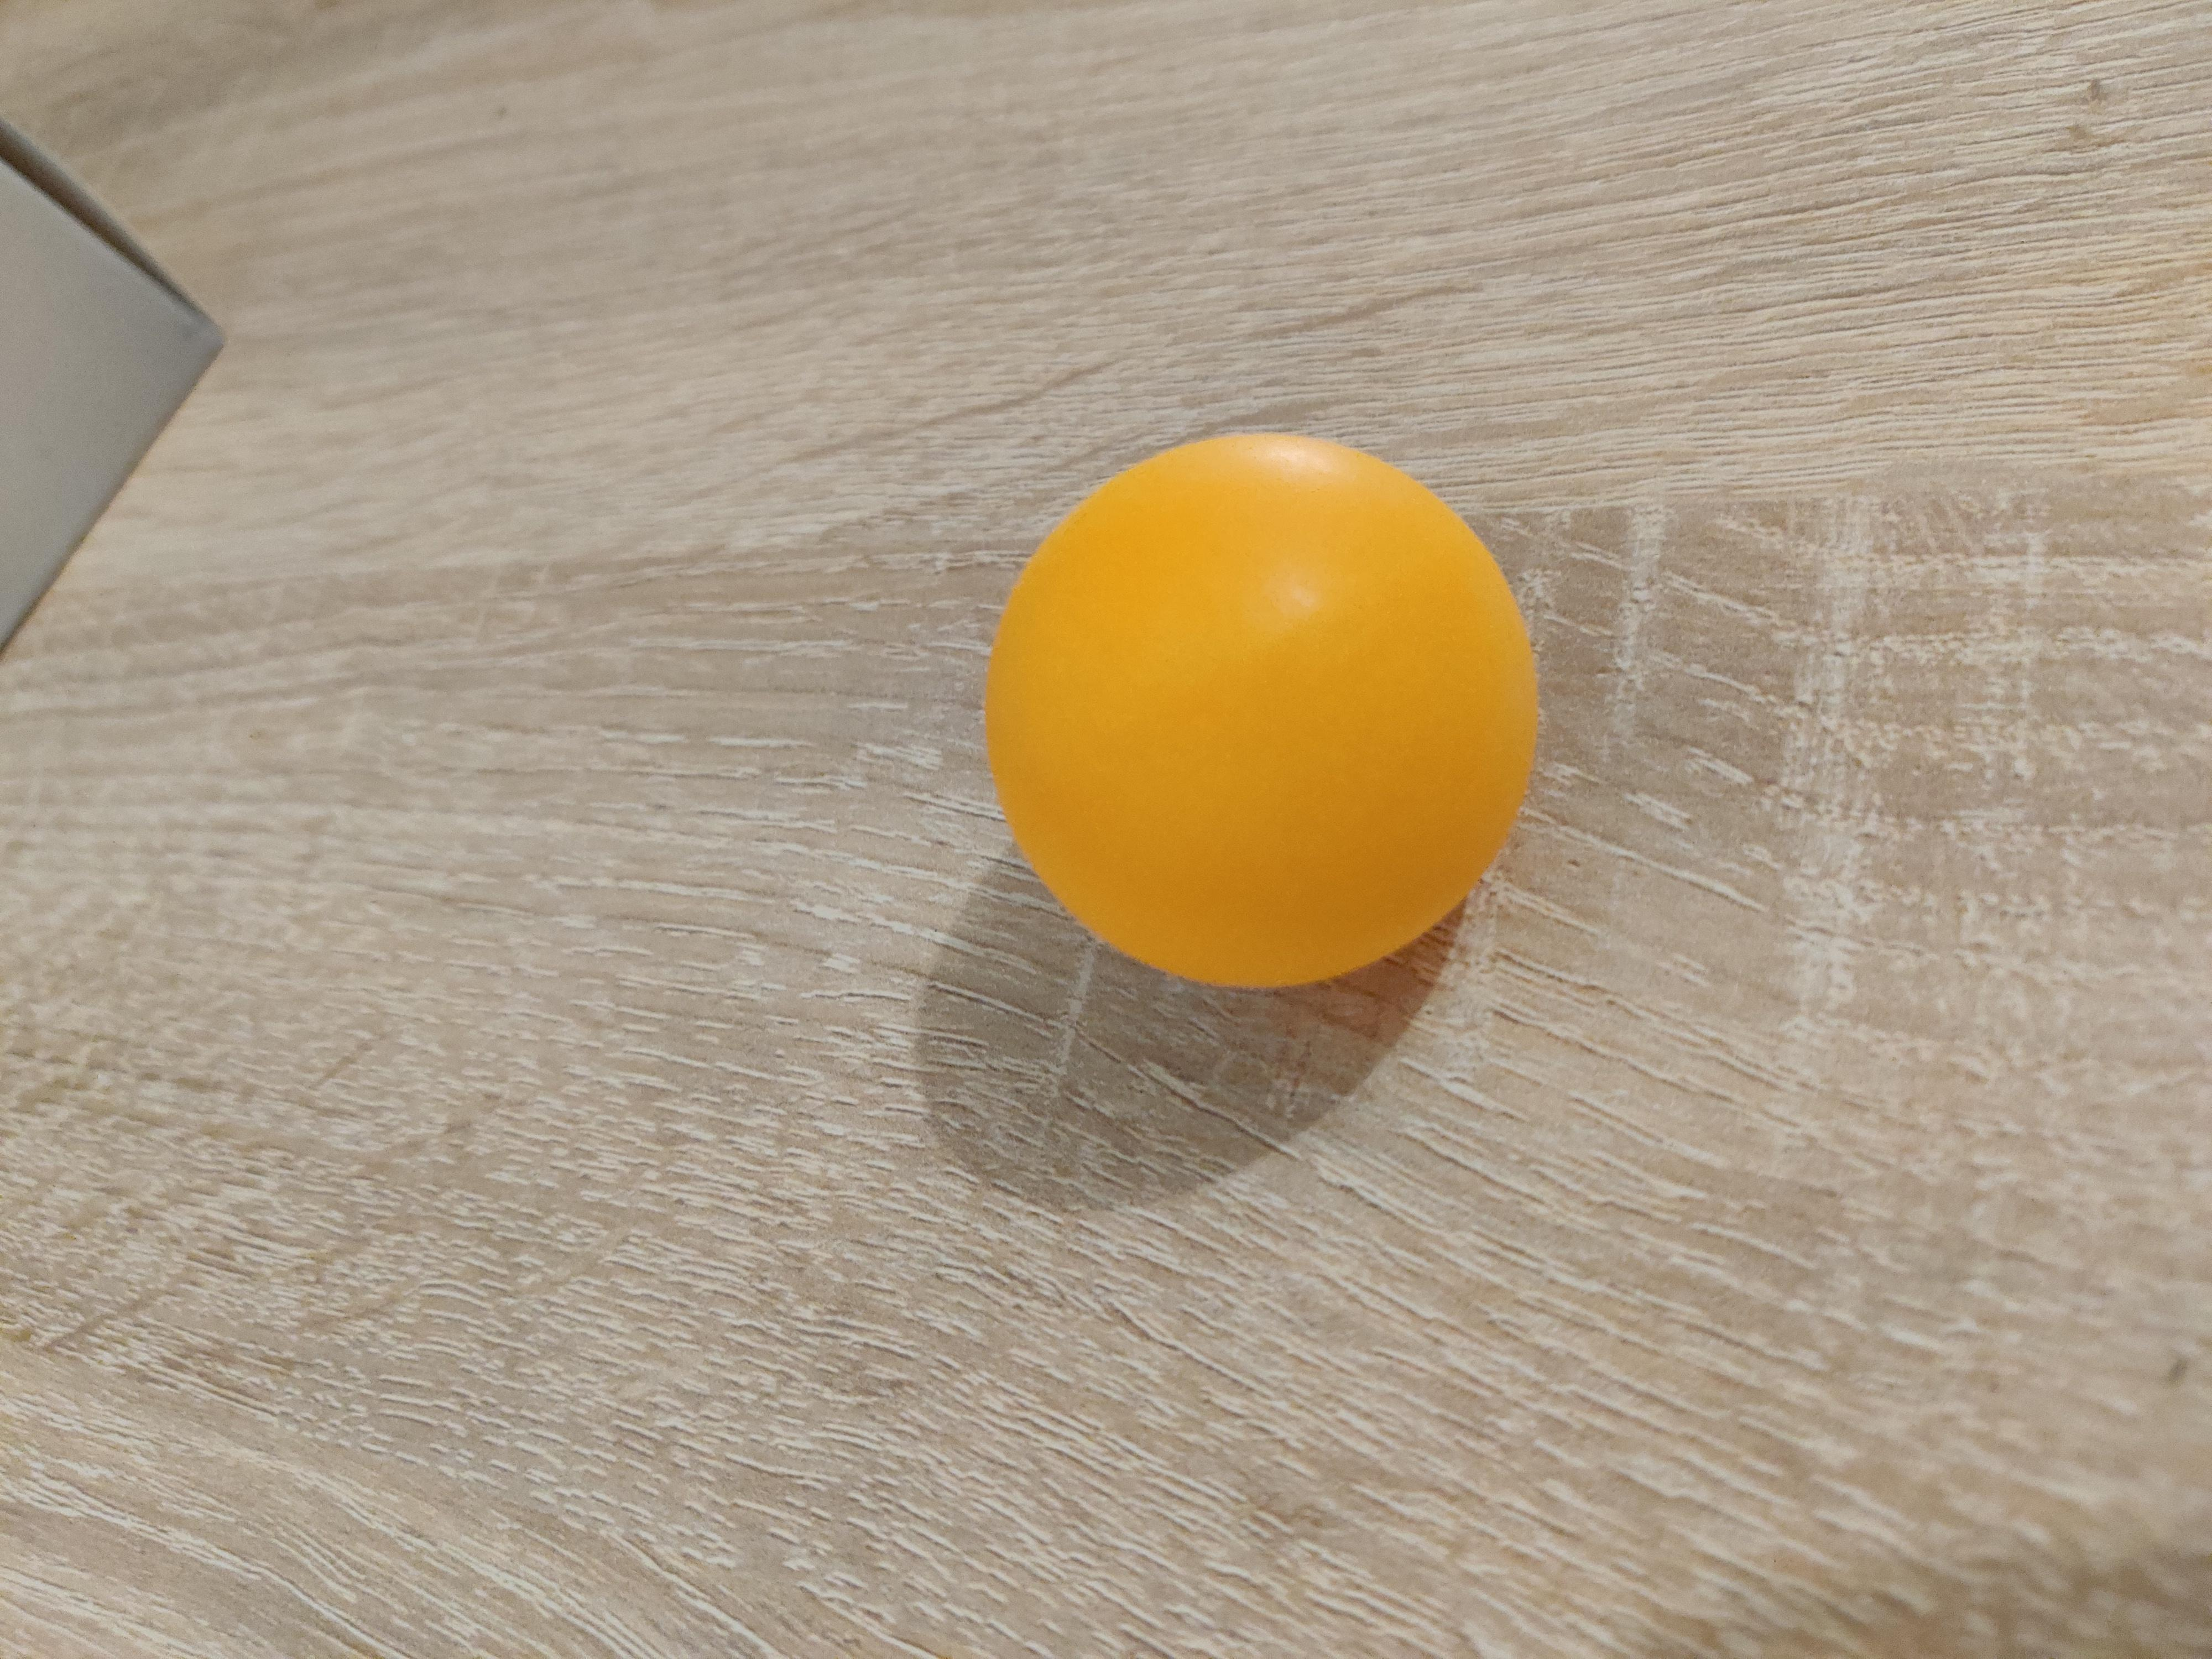orange: (982, 429, 1550, 997)
